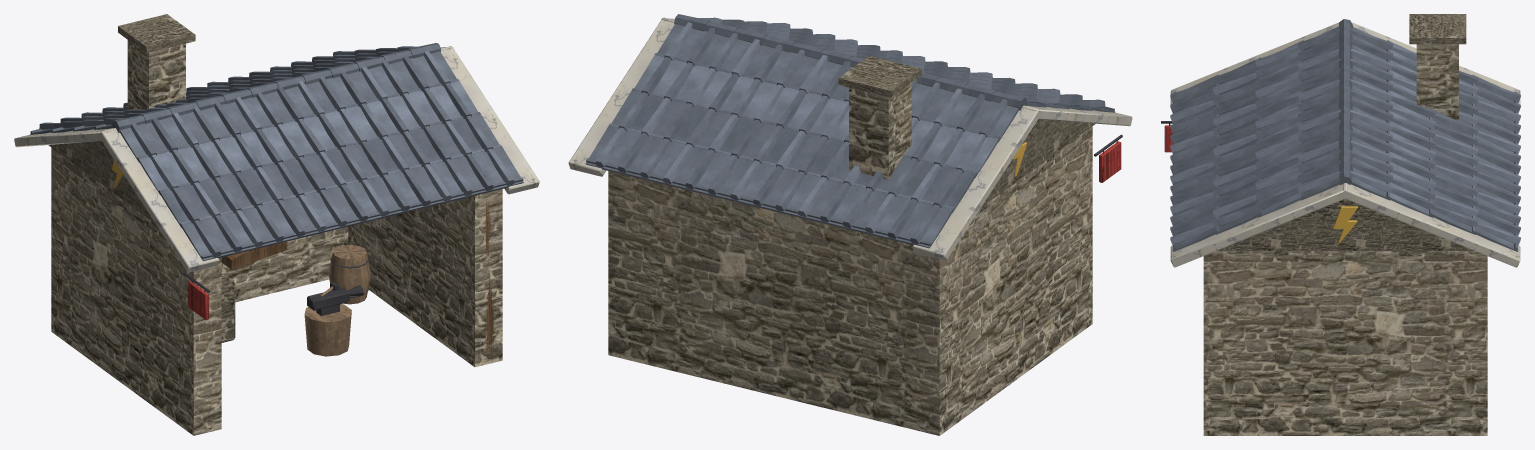
File: biz_forge_t1.glb
3 renders of one model, left to right at view 1: azimuth 30°, elevation 25°; view 2: azimuth 150°, elevation 25°; view 3: azimuth 270°, elevation 25°, orthographic. The views are drawn at different scales.
Visible parts, largest first — view 1: stone, slate0, slate1, slate2, marble, stone_dark, wood, wood_dark, iron, red_wood; view 2: stone, slate0, slate1, slate2, marble, stone_dark, red_wood; view 3: stone, slate0, slate1, slate2, stone_dark, marble, gold.
Boxes of the visible parts, <box> form: stone: <box>51,40,502,435</box>; slate0: <box>30,49,523,261</box>; slate1: <box>30,43,523,258</box>; slate2: <box>52,46,514,247</box>; marble: <box>14,46,539,272</box>; stone_dark: <box>48,14,235,342</box>; wood: <box>304,245,370,356</box>; wood_dark: <box>202,197,493,429</box>; iron: <box>183,258,368,315</box>; red_wood: <box>188,281,208,319</box>; stone: <box>608,83,1092,435</box>; slate0: <box>585,21,1115,248</box>; slate1: <box>586,14,1114,245</box>; slate2: <box>595,17,1091,233</box>; marble: <box>568,17,1132,260</box>; stone_dark: <box>838,56,1095,207</box>; red_wood: <box>1099,141,1121,182</box>; stone: <box>1203,44,1487,435</box>; slate0: <box>1170,26,1520,251</box>; slate1: <box>1170,19,1520,251</box>; slate2: <box>1170,41,1520,245</box>; stone_dark: <box>1217,14,1473,250</box>; marble: <box>1170,22,1520,267</box>; gold: <box>1333,206,1357,245</box>.
Size of the model in its own units: 5.7 by 4.65 by 5.07.
Materials: 14 (10 with a texture image).
